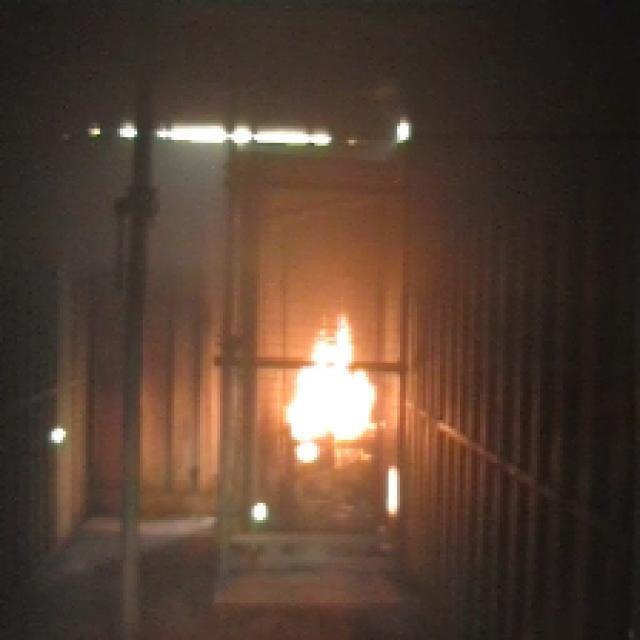Fire: (300, 312, 398, 486)
